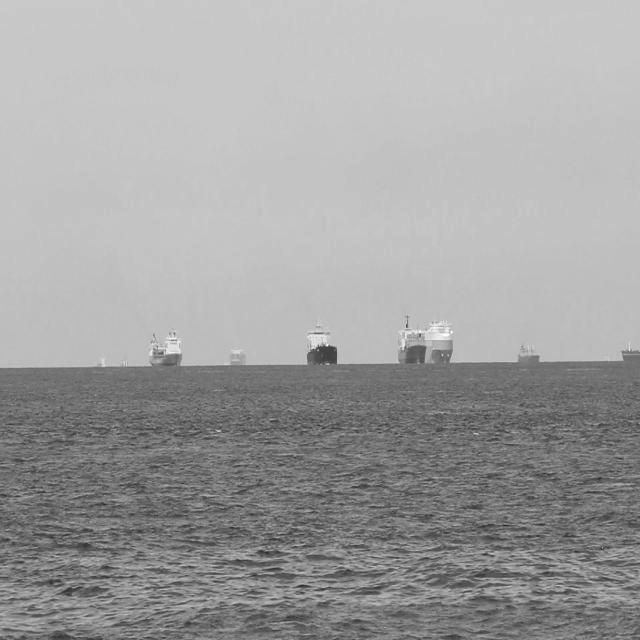ship: (303, 313, 338, 369), (396, 308, 426, 365), (144, 328, 182, 370), (427, 310, 455, 366), (514, 338, 542, 366), (620, 336, 638, 363), (226, 347, 246, 369), (96, 348, 109, 368), (118, 352, 130, 369)
